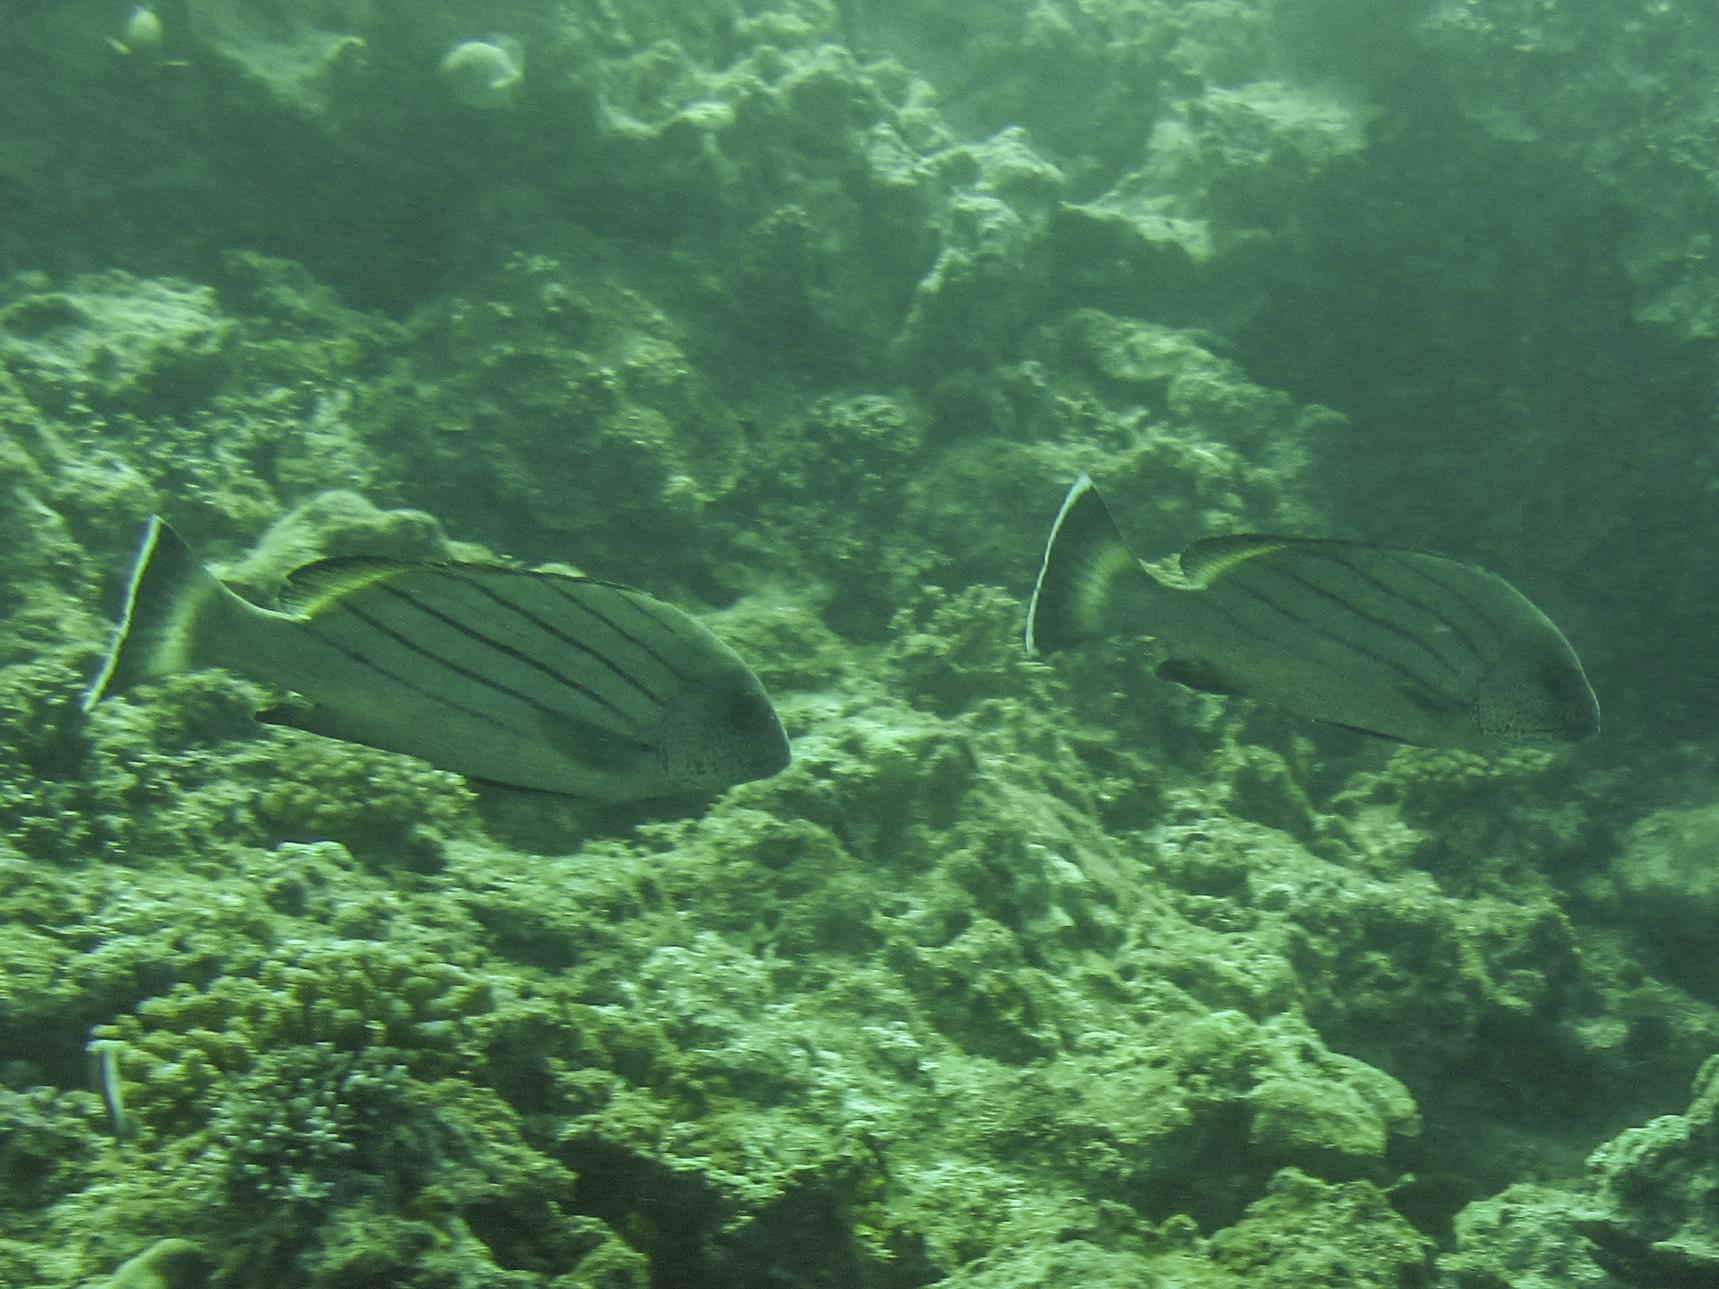Fish: (68, 474, 799, 862), (1008, 458, 1613, 772)
